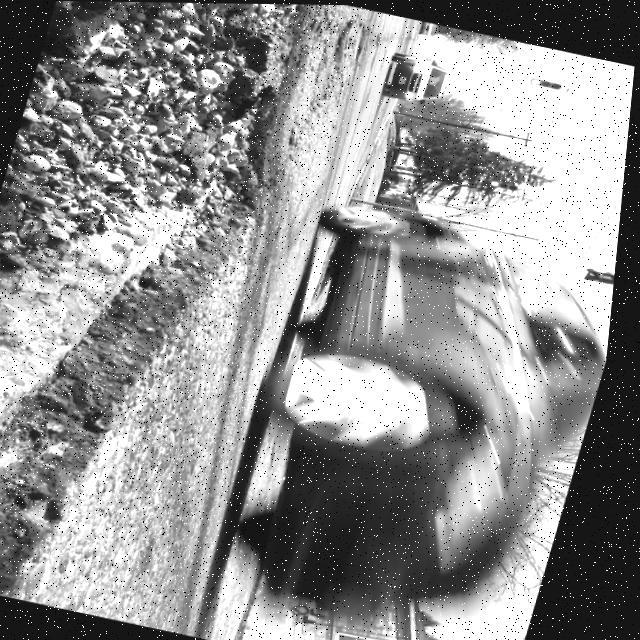pothole: (0, 0, 337, 629)
